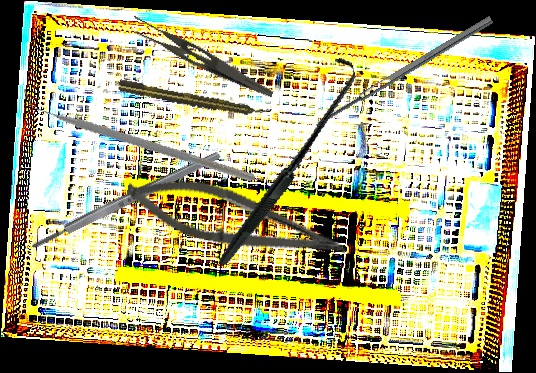Chopper: (23, 40, 256, 229)
Dressing Forceps: (125, 13, 281, 99)
Handpiece: (117, 78, 269, 121)
Hook Surgical: (176, 55, 394, 266)
Micro Scissor: (120, 166, 354, 271)
Scalpel Handle: (29, 149, 223, 252)
Spatula Surgical: (306, 15, 498, 140)
